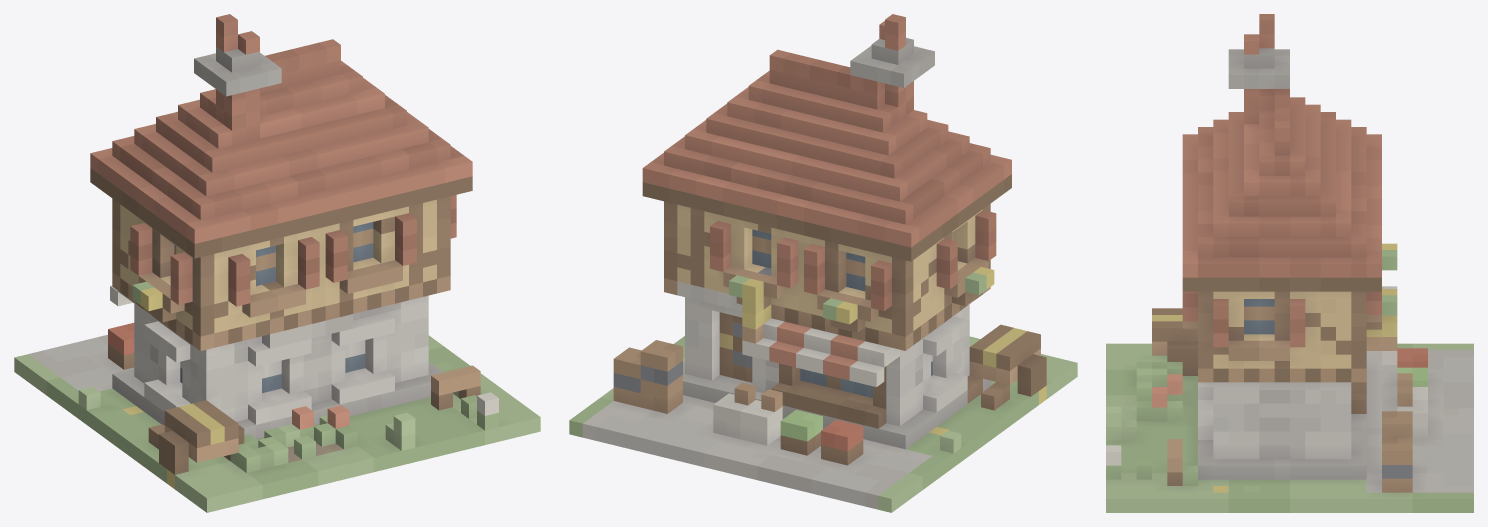
Rendered from house_citizens.v2.glb.
3 renders of one model, left to right at view 1: azimuth 30°, elevation 25°; view 2: azimuth 150°, elevation 25°; view 3: azimuth 270°, elevation 25°, orthographic. The views are drawn at different scales.
Parts seen in each view (by area): view 1: house_citizens; view 2: house_citizens; view 3: house_citizens.
Boxes of the visible parts, x1,y1,x2,y2 form: house_citizens: [14, 14, 540, 512]; house_citizens: [569, 14, 1077, 512]; house_citizens: [1106, 14, 1473, 512].
Size of the model in its own units: 3 by 3.5 by 3.
